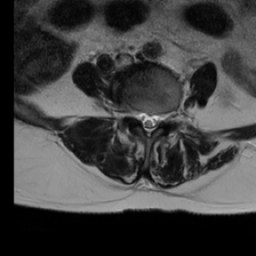CCS_normal: (144, 107, 153, 142)
LFS_normal: (161, 106, 168, 127)
LLS_normal: (153, 108, 161, 134)
RFS_normal: (129, 102, 137, 124)
RLS_normal: (136, 104, 145, 129)
